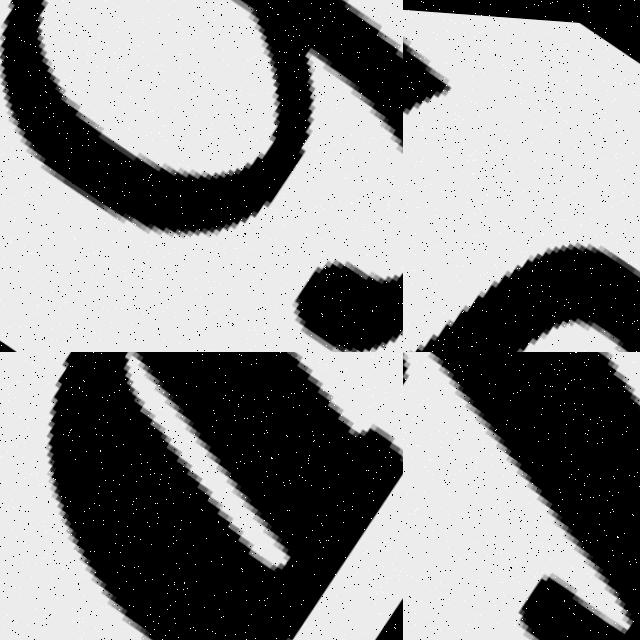6: (0, 0, 403, 352)
C: (435, 352, 640, 640)
P: (49, 352, 403, 640)
S: (403, 0, 640, 352)
